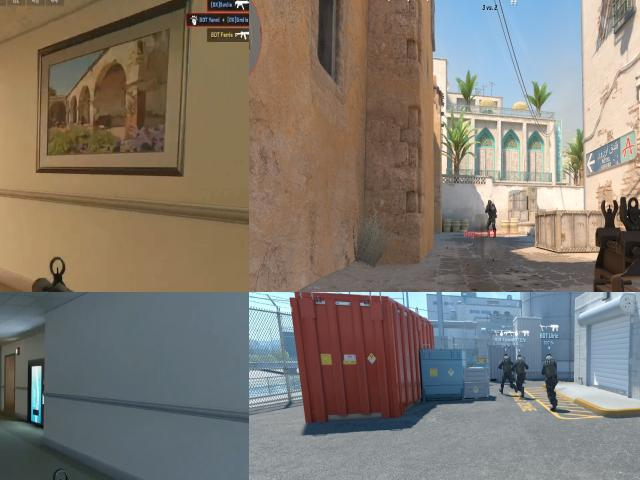CT: (540, 352, 560, 412), (512, 352, 527, 403), (500, 351, 512, 396), (486, 200, 496, 232)
CT-Head: (546, 352, 553, 360), (516, 355, 522, 361), (503, 352, 509, 358), (488, 200, 492, 206)
